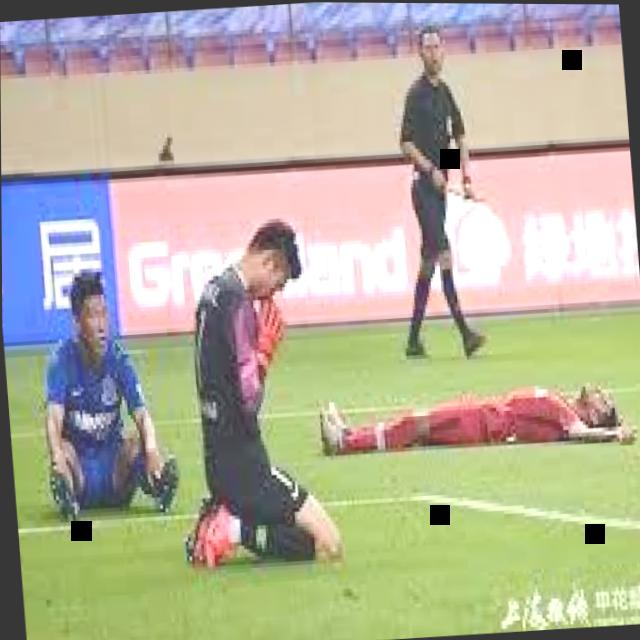Fall-Detected: (16, 248, 181, 536)
